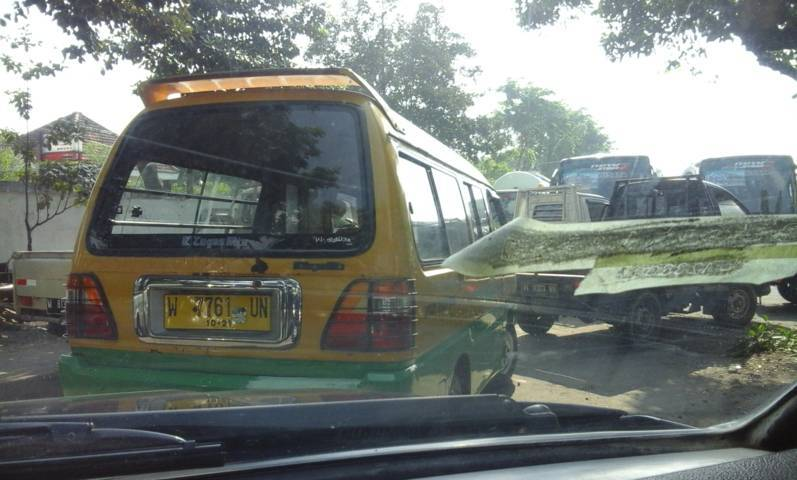plate: (164, 289, 274, 338)
